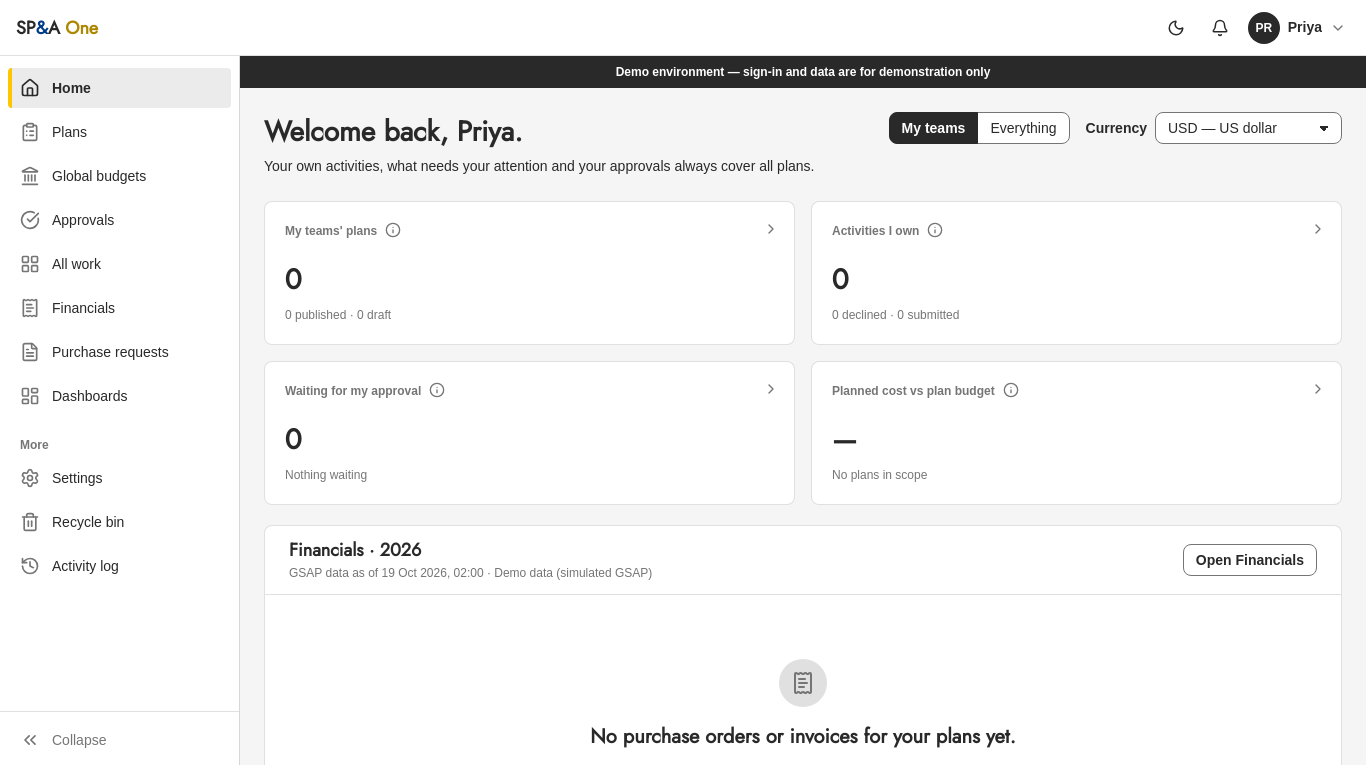
Test: RequireSignIn › checks the session again on every navigation (research R15)
Expected: the heading "Welcome back, Priya." is shown, [264,112,522,152]
Click the link "Plans" at (54, 132), box [20,122,87,142]
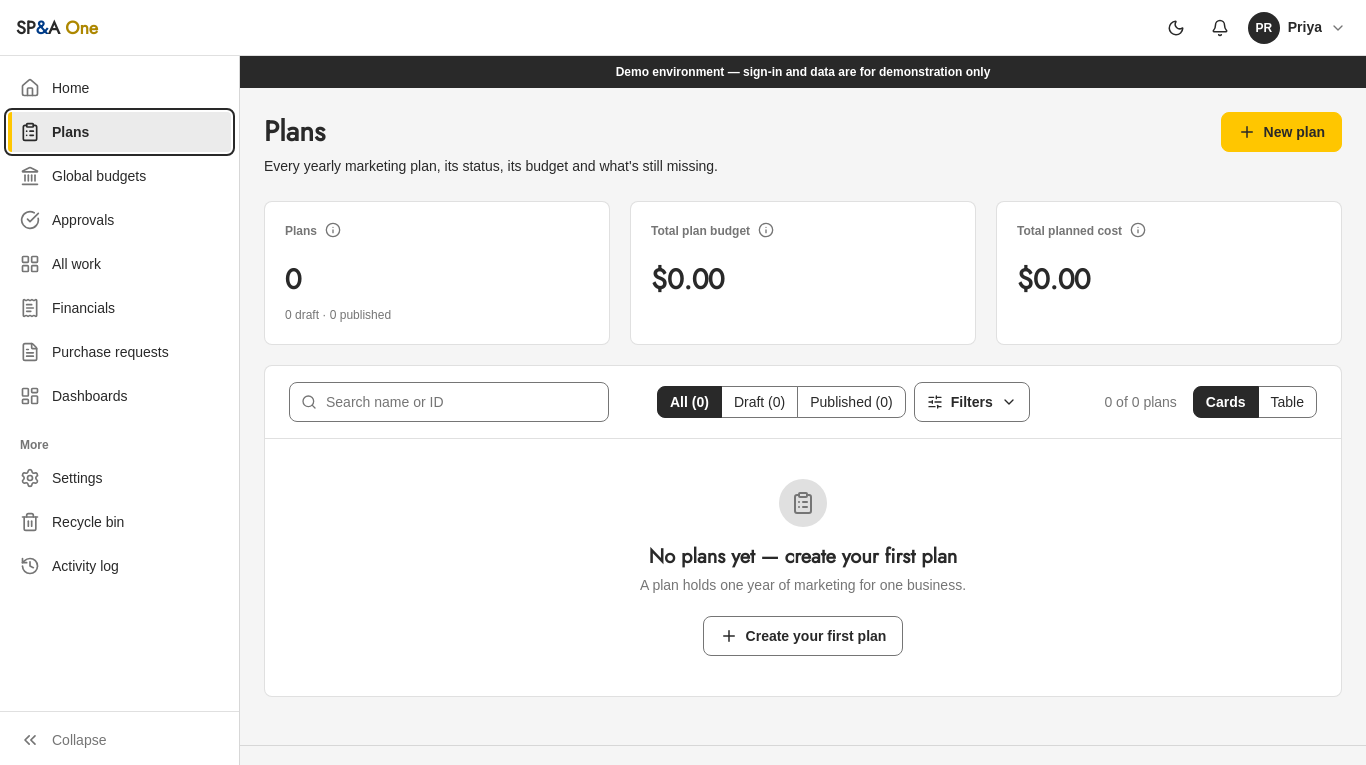
Expected: the heading "Plans" is shown, [264,112,325,152]
